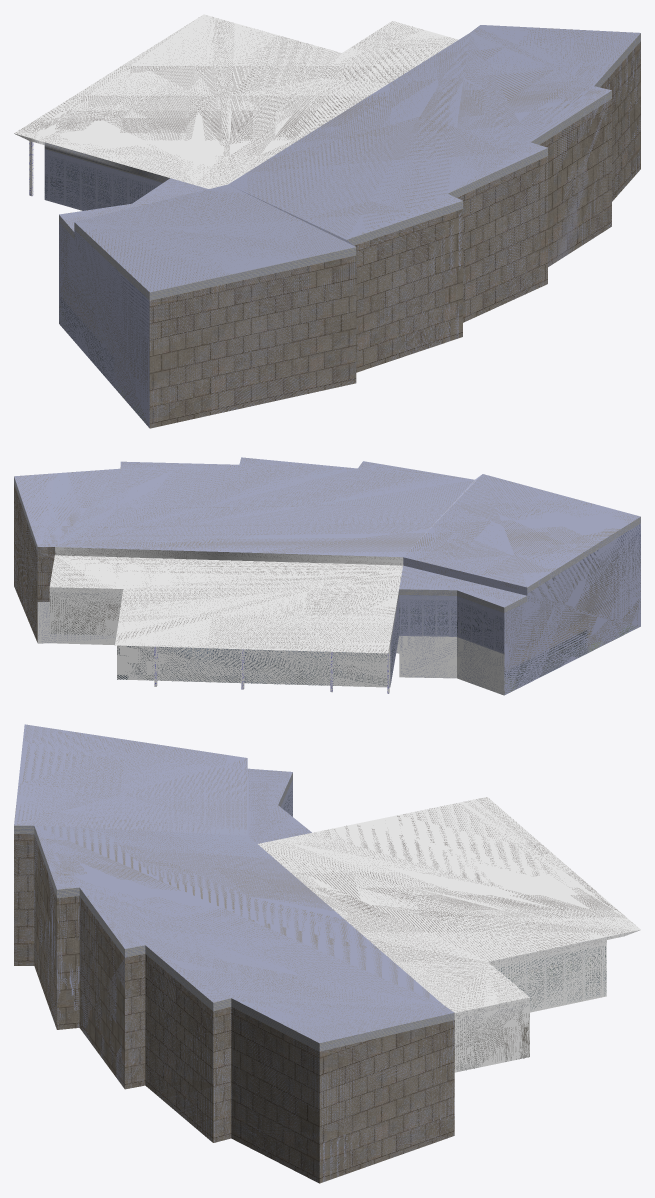
The model's file is Cafetería Telecomunicaciones.fbx.
3 views of the same model, one above another, from view 1: azimuth 30°, elevation 25°; view 2: azimuth 150°, elevation 25°; view 3: azimuth 270°, elevation 25° (orthographic). The views are drawn at different scales.
Parts seen in each view (by area): view 1: Model; view 2: Model; view 3: Model.
Boxes of the visible parts, x1,y1,x2,y2 form: Model: (14,14,640,428); Model: (14,457,640,695); Model: (14,724,640,1183).
Size of the model in its own units: 39.79 by 8.17 by 33.06.
